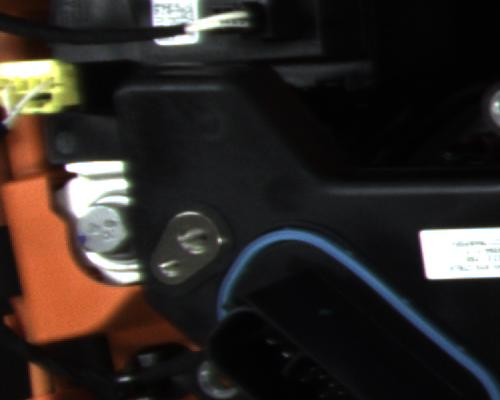nut_b: (69, 193, 137, 267)
